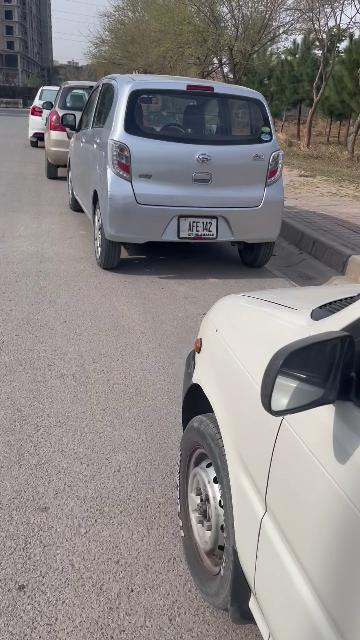plate: (179, 217, 217, 239)
